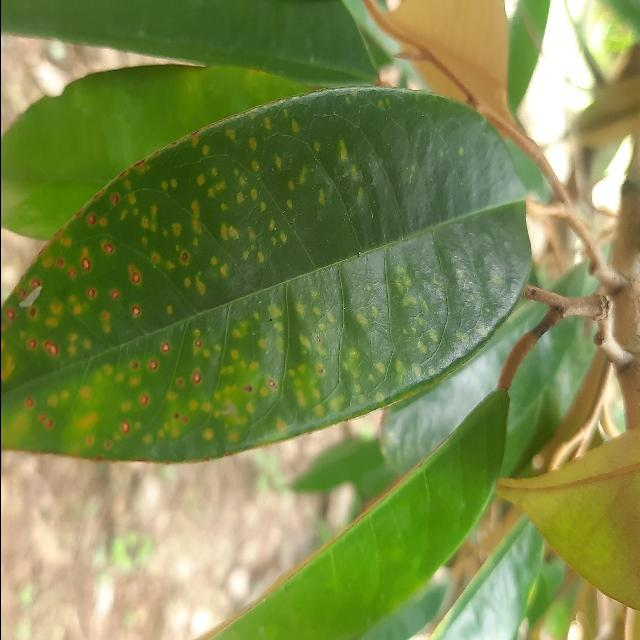Leaf Spot: (0, 73, 559, 476)
